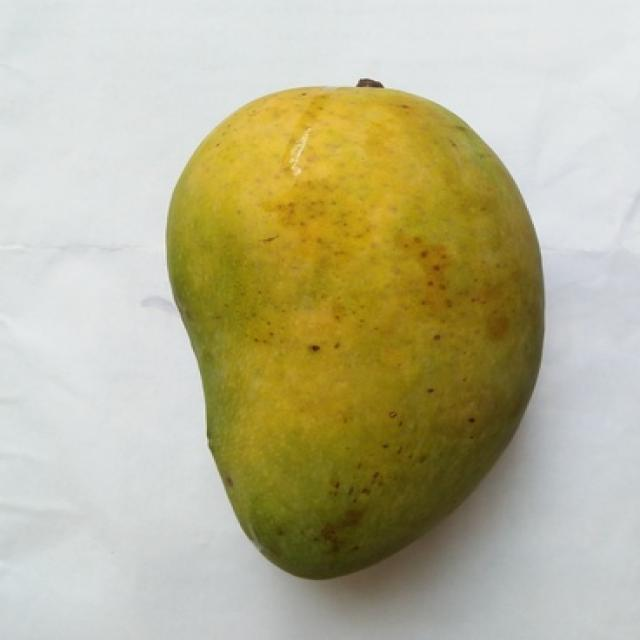Mango: (169, 87, 543, 577)
